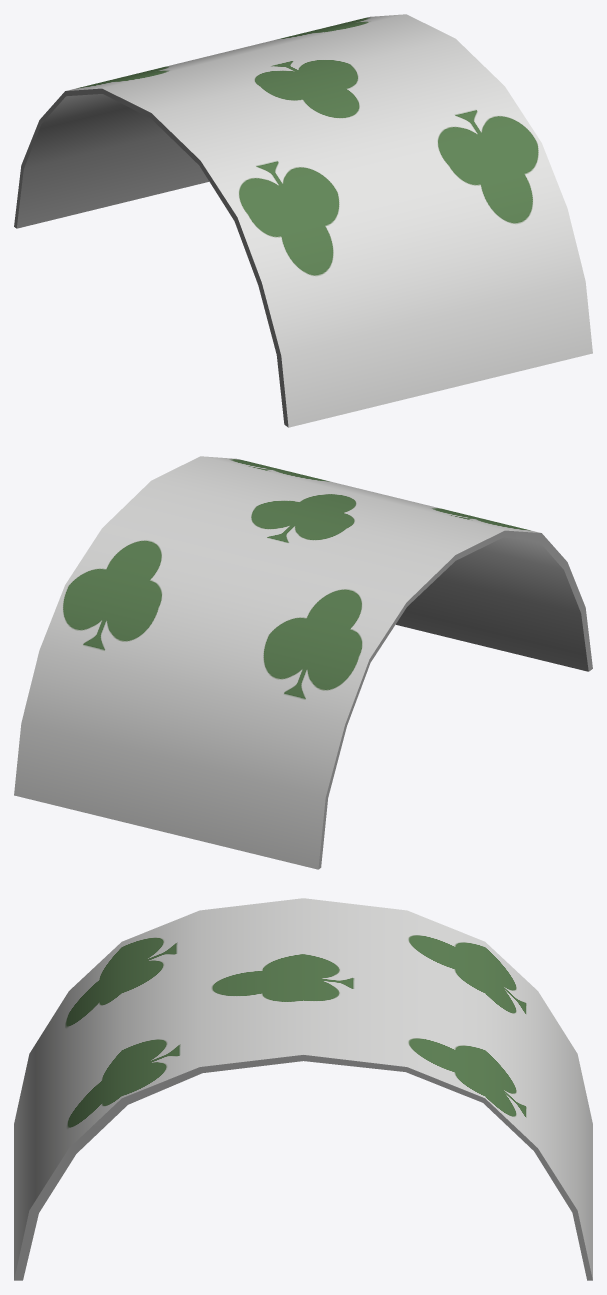
Rendered from Trump_c05.fbx.
3 views of the same model, one above another, from view 1: azimuth 30°, elevation 25°; view 2: azimuth 150°, elevation 25°; view 3: azimuth 270°, elevation 25° (orthographic). The views are drawn at different scales.
Parts seen in each view (by area): view 1: pCube4; view 2: pCube4; view 3: pCube4.
Boxes of the visible parts, x1=… form: pCube4: x1=14, y1=14, x2=592, y2=427; pCube4: x1=14, y1=456, x2=592, y2=869; pCube4: x1=14, y1=898, x2=592, y2=1280.
Size of the model in its own units: 915 by 613 by 1424.
